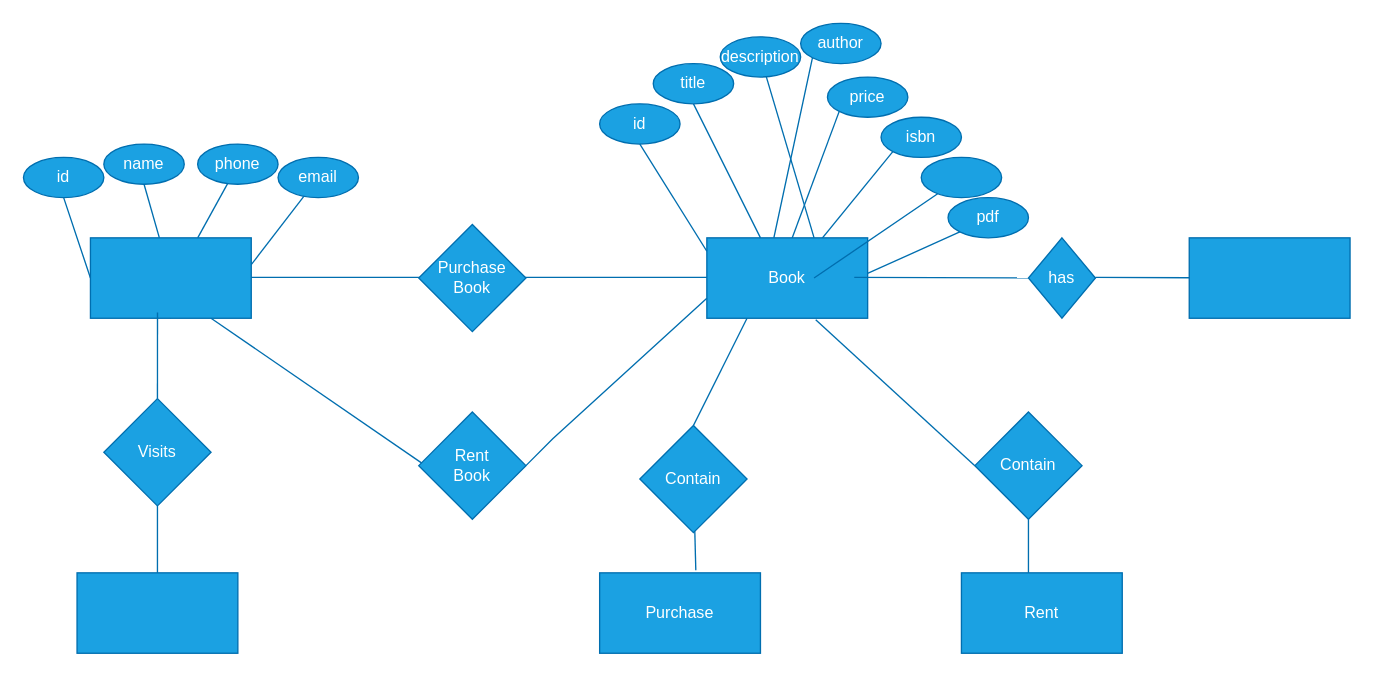
Some shapes in this 1374 by 677 pixel diagram are drawn without their labels. The shapes that lost their labels are listed below. From the top down, each one's centre as x and y in pixels, then its label:
point 961,177: picture
point 170,277: Users
point 1269,277: Catalogue Id
point 157,612: Website
